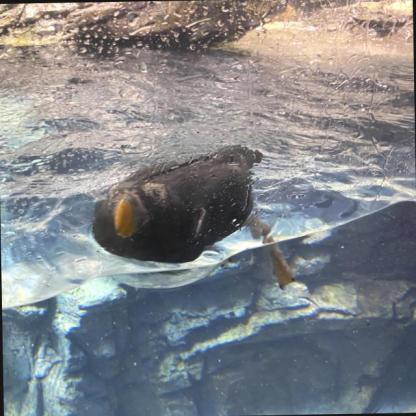puffin: (92, 144, 294, 293)
